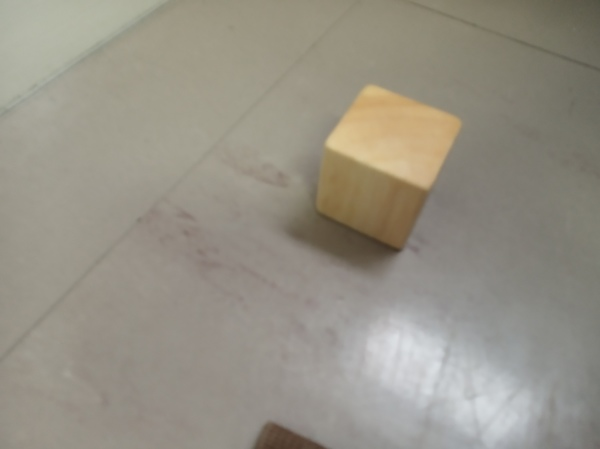violet: (340, 108, 443, 233)
